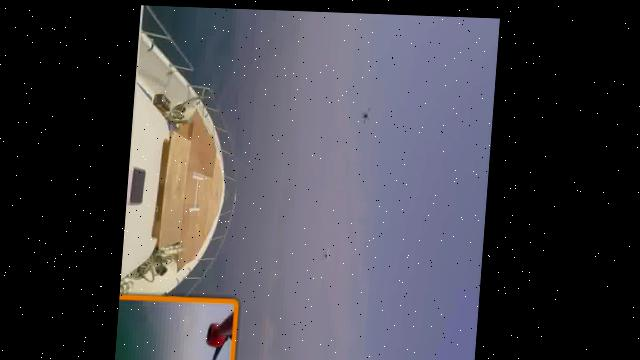drone: (346, 97, 384, 132), (319, 248, 338, 264)
